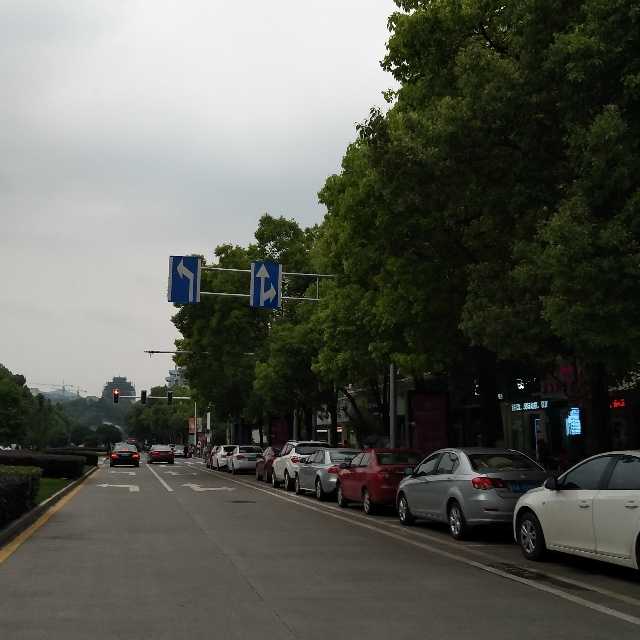left: (165, 252, 198, 302)
